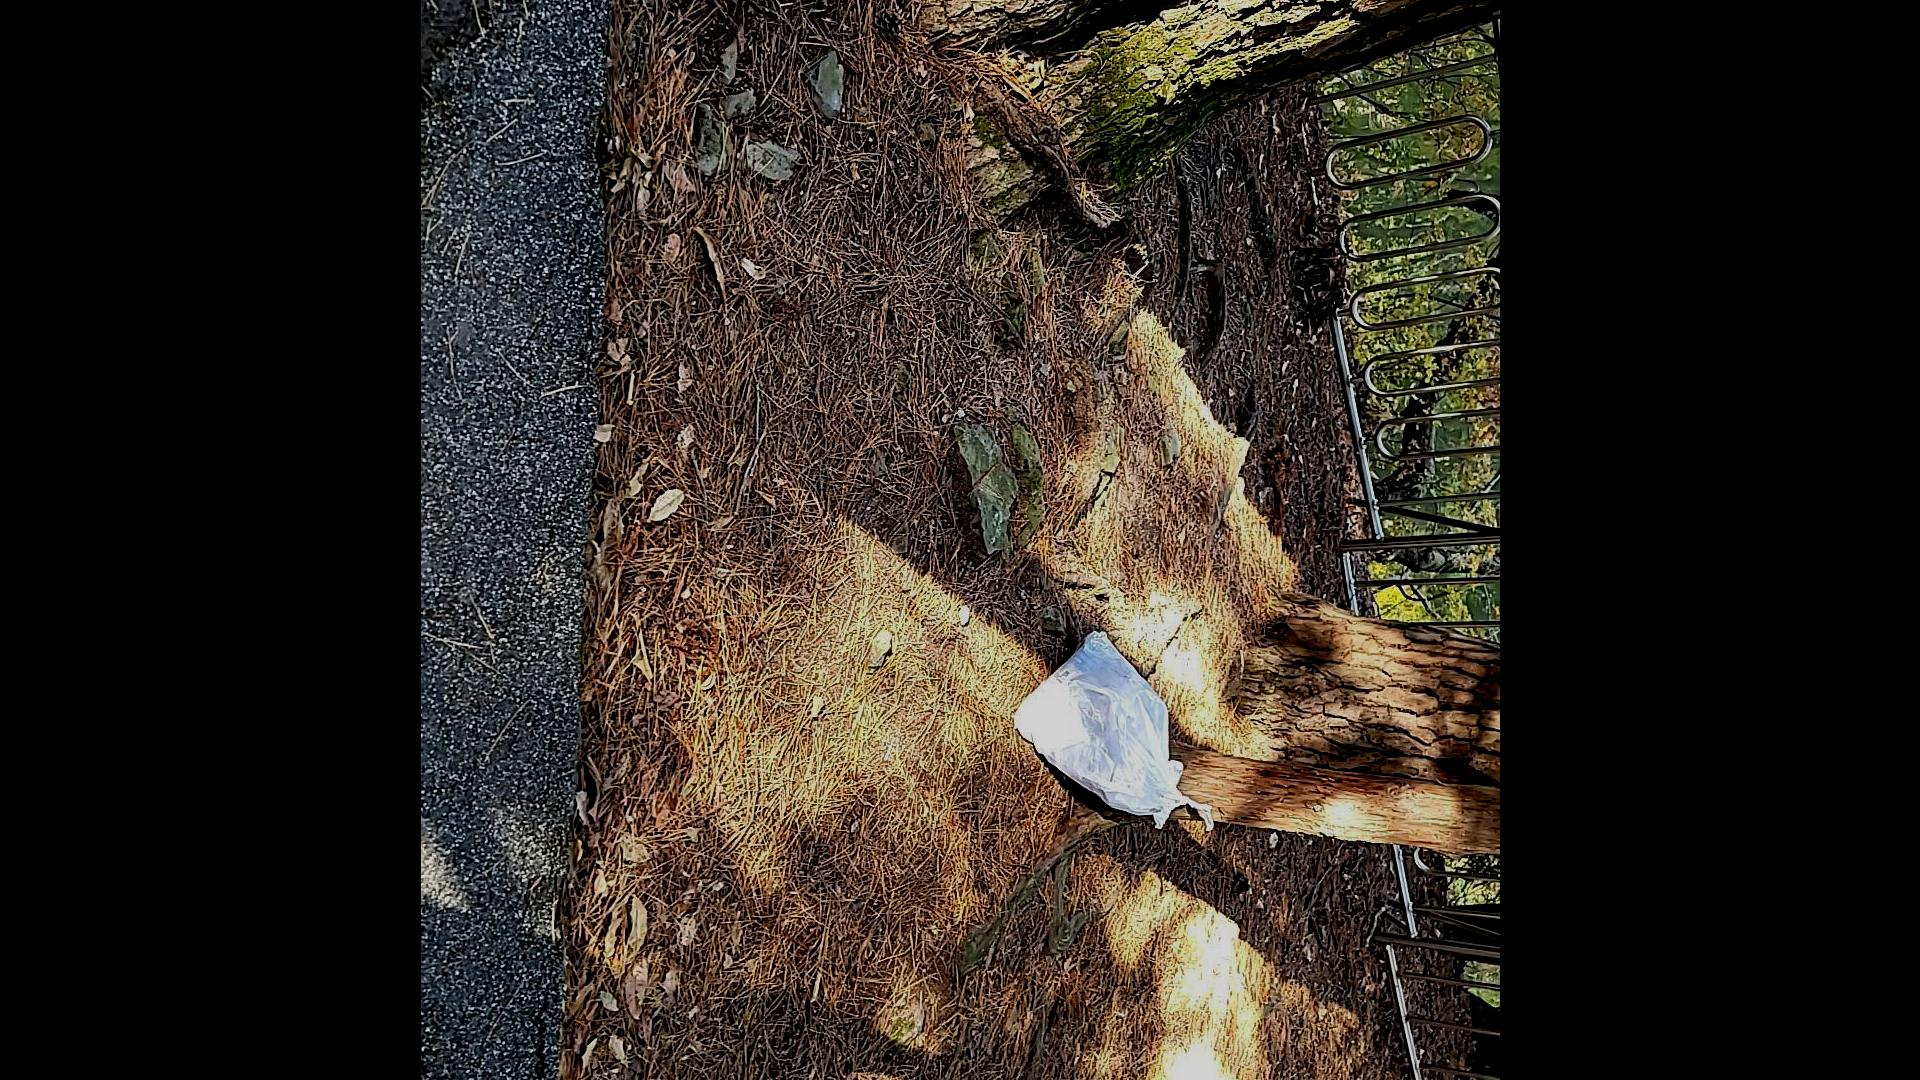white_bag: (1005, 616, 1229, 851)
